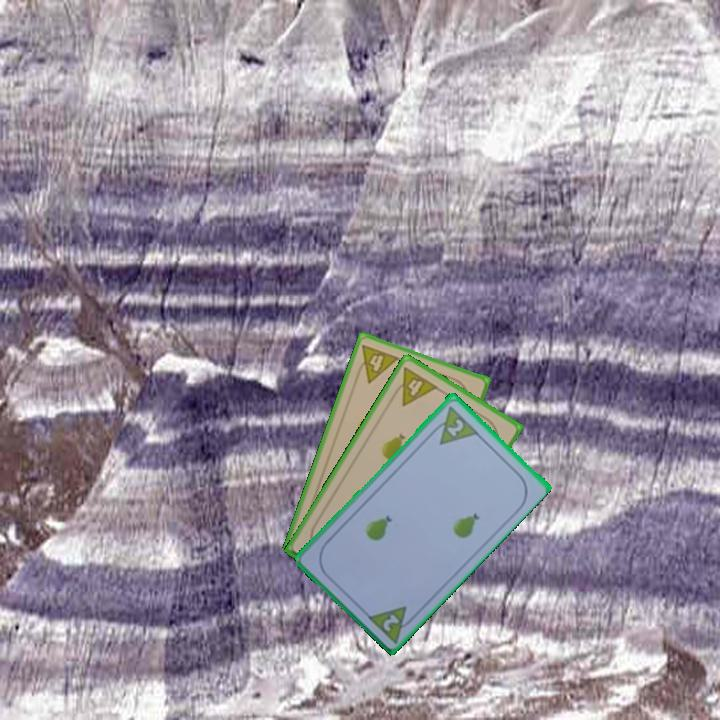2p: (426, 401, 480, 448), (363, 602, 420, 645)
4p: (387, 363, 441, 409), (351, 341, 402, 386)
